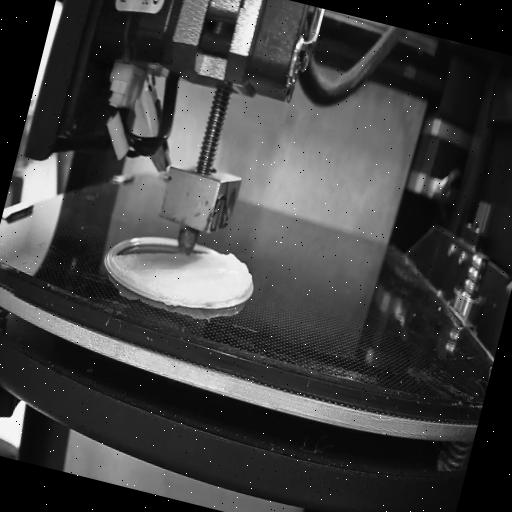over_extrusion: (212, 248, 260, 304)
